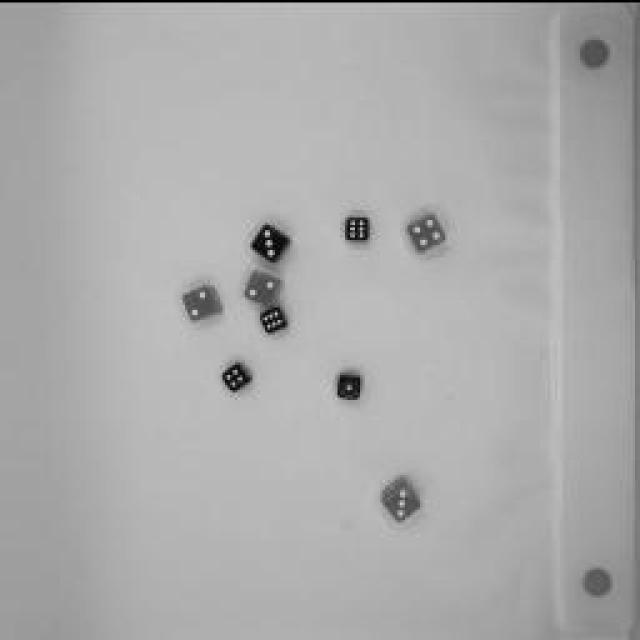dice_1: (332, 366, 366, 404)
dice_2: (240, 265, 290, 310), (179, 280, 226, 325)
dice_3: (375, 472, 425, 528), (248, 220, 298, 265)
dice_4: (404, 205, 448, 260), (214, 355, 258, 405)
dice_6: (260, 303, 290, 335), (342, 212, 372, 242)
